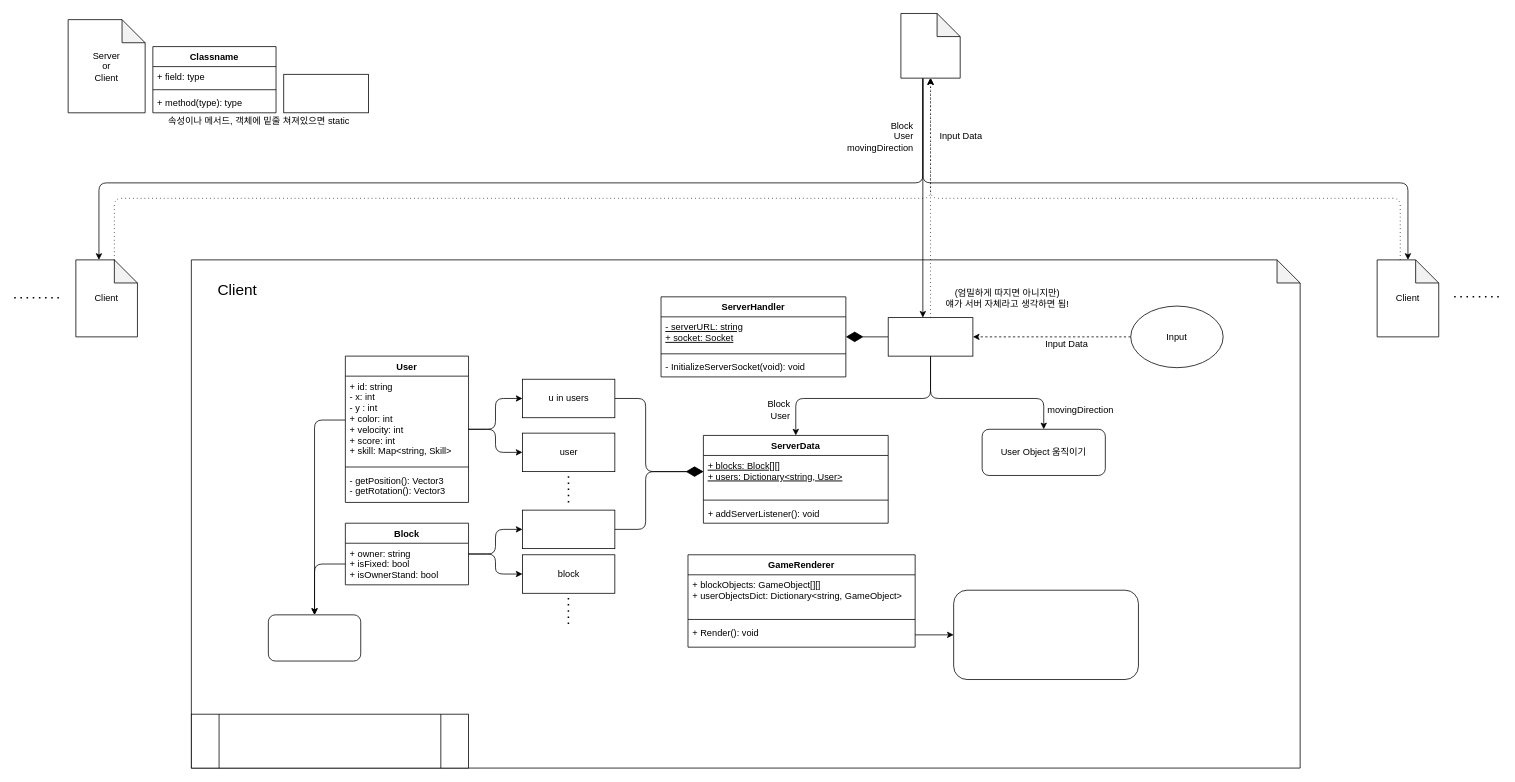
The diagram is 1515 pixels wide and 782 high, and some of its shapes have lost their labels. Here are the shapes that lost their labels. From the top down, the centre of each, then its label:
[930,45]: Server
[325,93]: Object
[930,336]: socket
[568,529]: b in blocks
[314,637]: 미니맵 그려주기
[1045,634]: Scene에서 그려주기 Block의 색깔은 다음을 기반으로 : users.ServerData.users.get(owner).color
[330,740]: <주의사항> 서버에서 위치를 이차원 좌표(x, y)로 보내는데, 유니티에서는 이를 x, z에 대응시켜야 한다!
